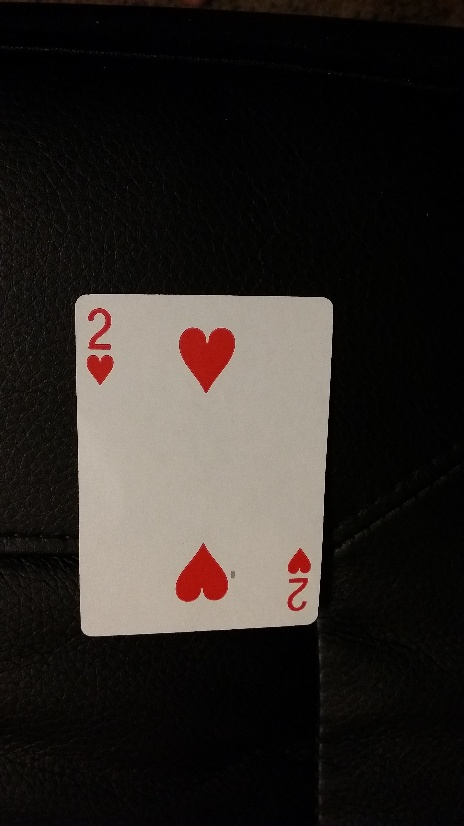H2: (81, 300, 121, 388), (278, 543, 315, 619)
